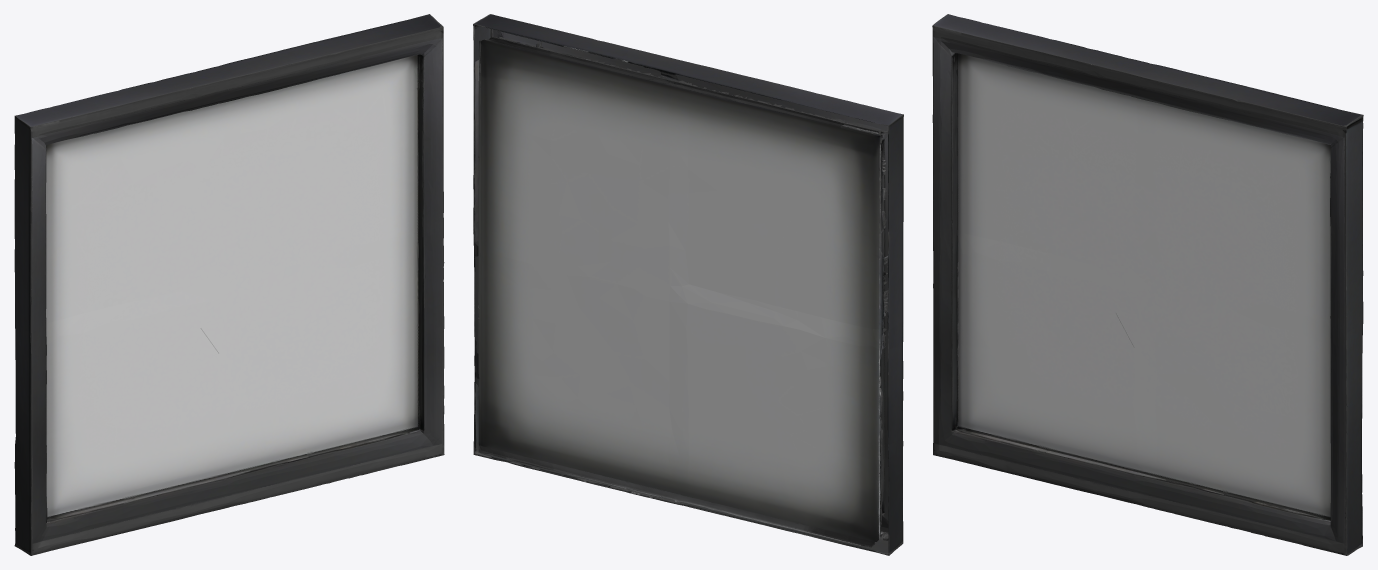
The model's file is 심플하고_현대적_0513121637_texture.fbx.
3 renders of one model, left to right at view 1: azimuth 30°, elevation 25°; view 2: azimuth 150°, elevation 25°; view 3: azimuth 330°, elevation 25°, orthographic.
Parts seen in each view (by area): view 1: temp; view 2: temp; view 3: temp.
Boxes of the visible parts, x1,y1,x2,y2 form: temp: (14, 14, 444, 555); temp: (473, 14, 903, 555); temp: (932, 14, 1363, 555).
Bounding box in the file's own units: 198 × 196 × 15.63.
Materials: 1 (1 with a texture image).
